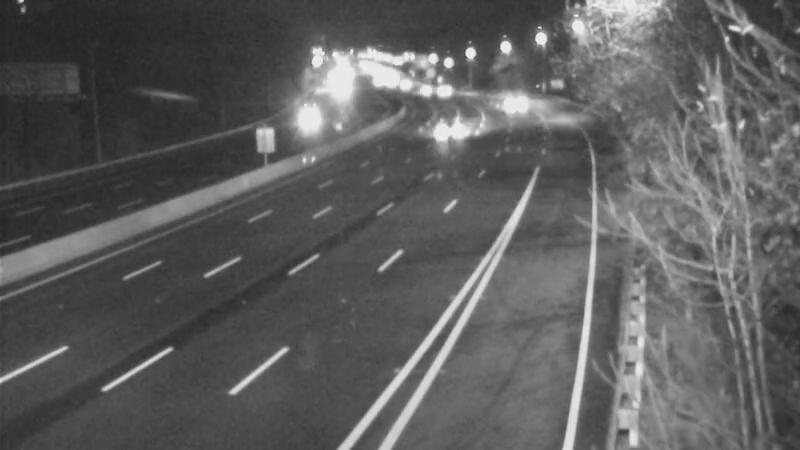vehicle: (421, 68, 471, 118), (394, 65, 444, 115), (498, 86, 548, 136), (429, 102, 479, 152), (276, 93, 326, 143)
